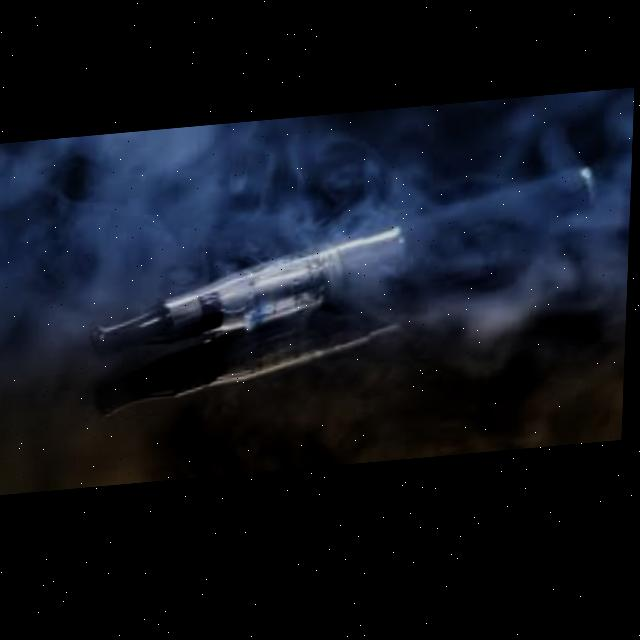vape: (92, 177, 601, 360)
